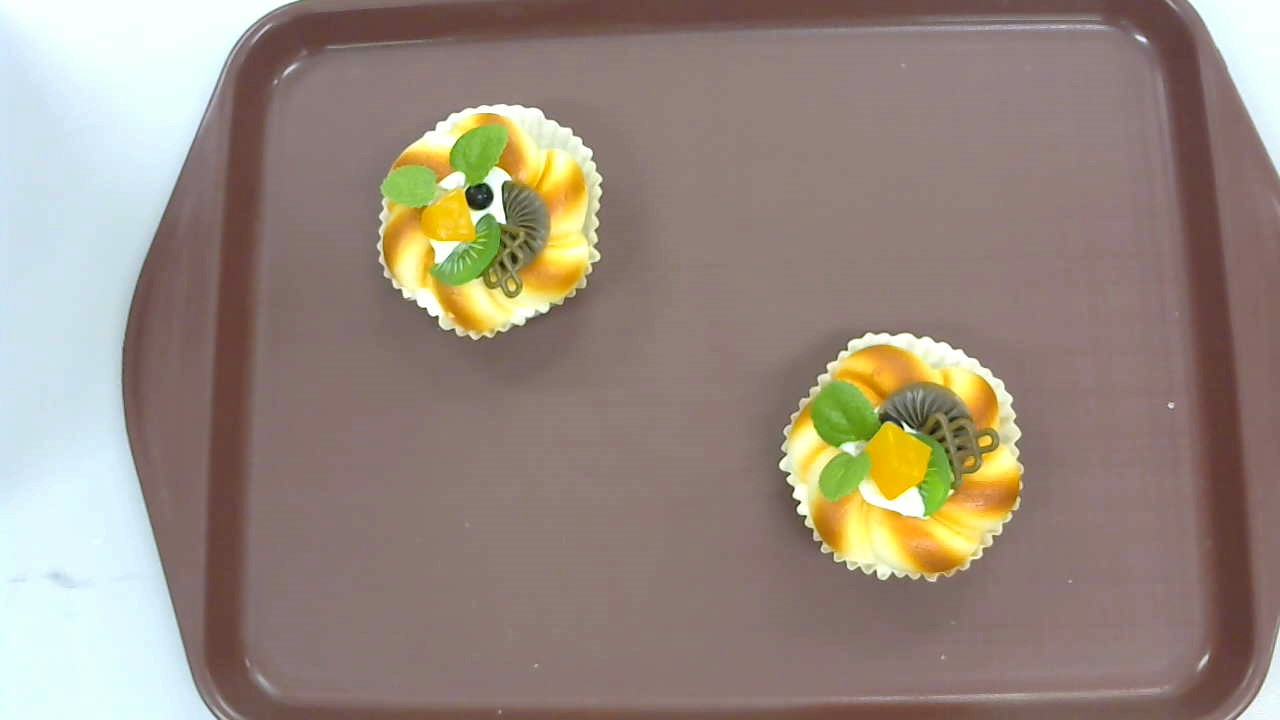fruit tart: (778, 332, 1024, 580), (377, 103, 604, 341)
